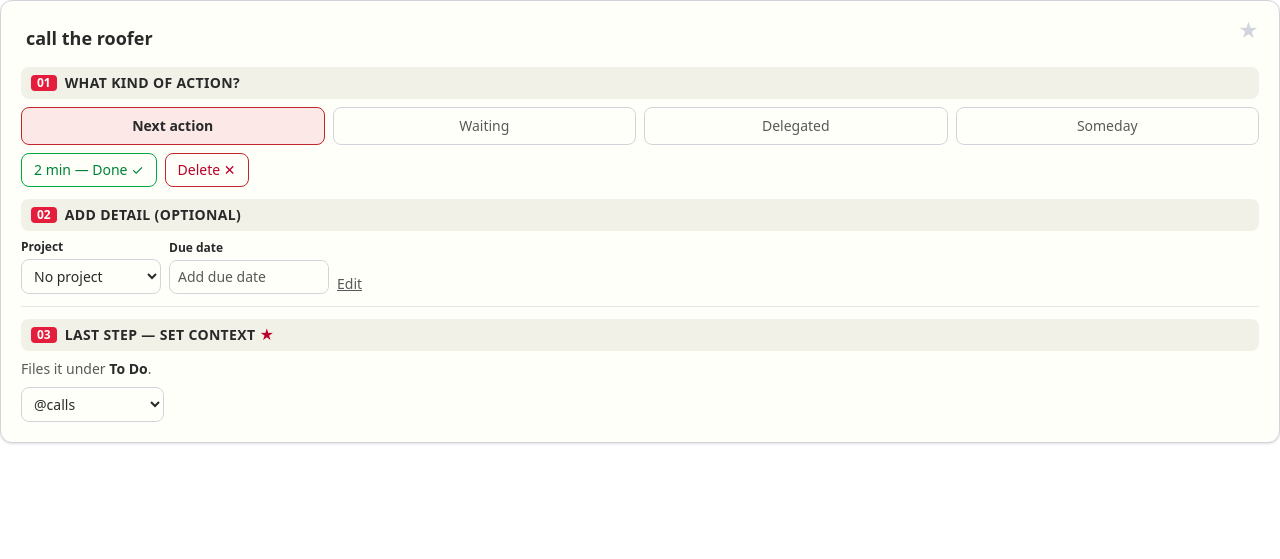
Test: filing an inbox item under a context › queues a row saying what happened, and undoes the whole filing write
Later steps or results of the test are not shown.
Select "@calls" in the dropdown named "Set context and file this todo": (92, 404) [21, 387, 164, 422]
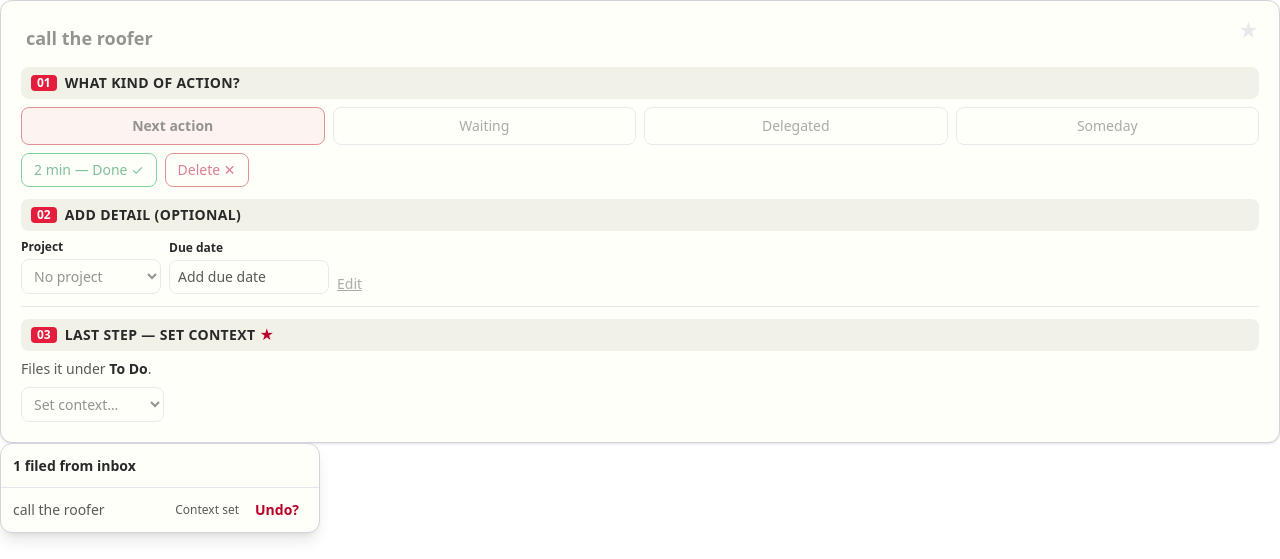
Expected: the text "1 filed from inbox" is shown, [13, 456, 136, 476]
Expected: the list item "call the roofer Context set Undo?" is shown, [1, 488, 319, 532]
